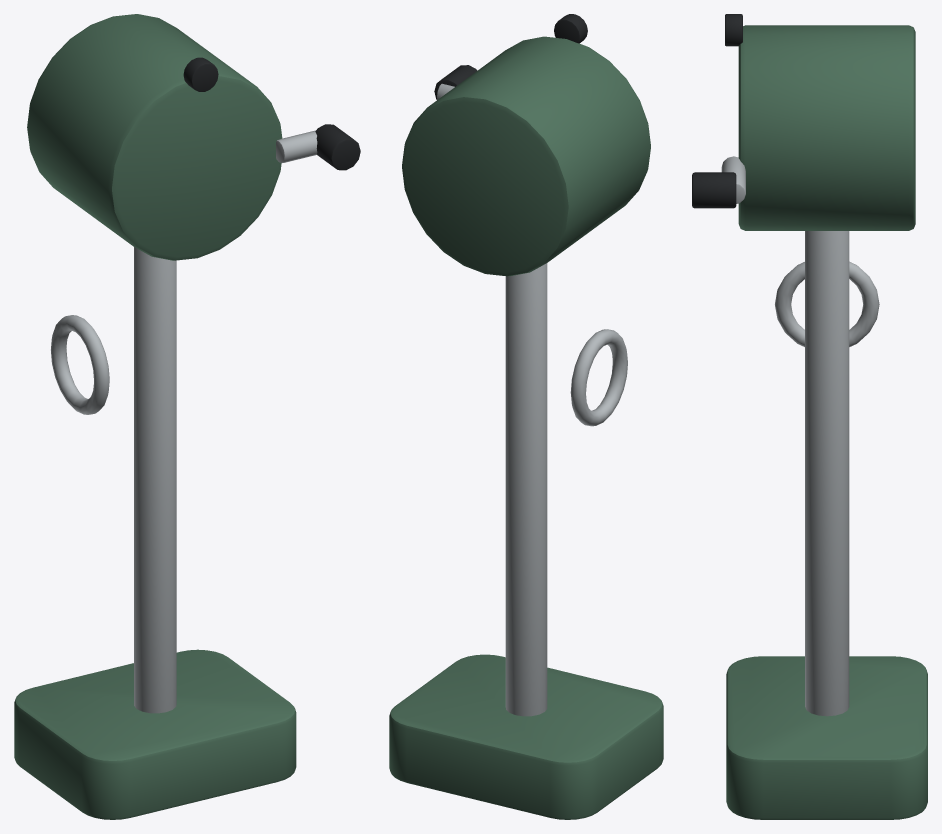
The model's file is ball_washer_public.glb.
3 renders of one model, left to right at view 1: azimuth 30°, elevation 25°; view 2: azimuth 150°, elevation 25°; view 3: azimuth 270°, elevation 25°, orthographic. The views are drawn at different scales.
Parts seen in each view (by area): view 1: BallWasher_Drum, BallWasher_Base, BallWasher_Post, BallWasher_TowelRing, BallWasher_CrankGrip, BallWasher_CrankShaft, BallWasher_Port_1; view 2: BallWasher_Drum, BallWasher_Base, BallWasher_Post, BallWasher_TowelRing, BallWasher_Port_1, BallWasher_CrankGrip; view 3: BallWasher_Drum, BallWasher_Base, BallWasher_Post, BallWasher_TowelRing, BallWasher_CrankGrip, BallWasher_CrankShaft, BallWasher_Port_1.
Boxes of the visible parts, x1,y1,x2,y2 form: BallWasher_Drum: (27,14,282,260); BallWasher_Base: (14,649,296,819); BallWasher_Post: (134,247,176,713); BallWasher_TowelRing: (51,315,109,414); BallWasher_CrankGrip: (315,124,360,170); BallWasher_CrankShaft: (276,130,317,162); BallWasher_Port_1: (183,57,218,91); BallWasher_Drum: (402,36,650,276); BallWasher_Base: (389,654,663,819); BallWasher_Post: (505,263,547,716); BallWasher_TowelRing: (570,329,627,426); BallWasher_Port_1: (554,14,587,43); BallWasher_CrankGrip: (434,65,477,99); BallWasher_Drum: (738,25,915,230); BallWasher_Base: (726,656,927,819); BallWasher_Post: (805,231,849,716); BallWasher_TowelRing: (775,261,879,346); BallWasher_CrankGrip: (692,172,736,208); BallWasher_CrankShaft: (721,156,745,203); BallWasher_Port_1: (725,14,742,46).
Size of what is drawn, in the model's own units: 0.3532 by 1.02 by 0.288.
